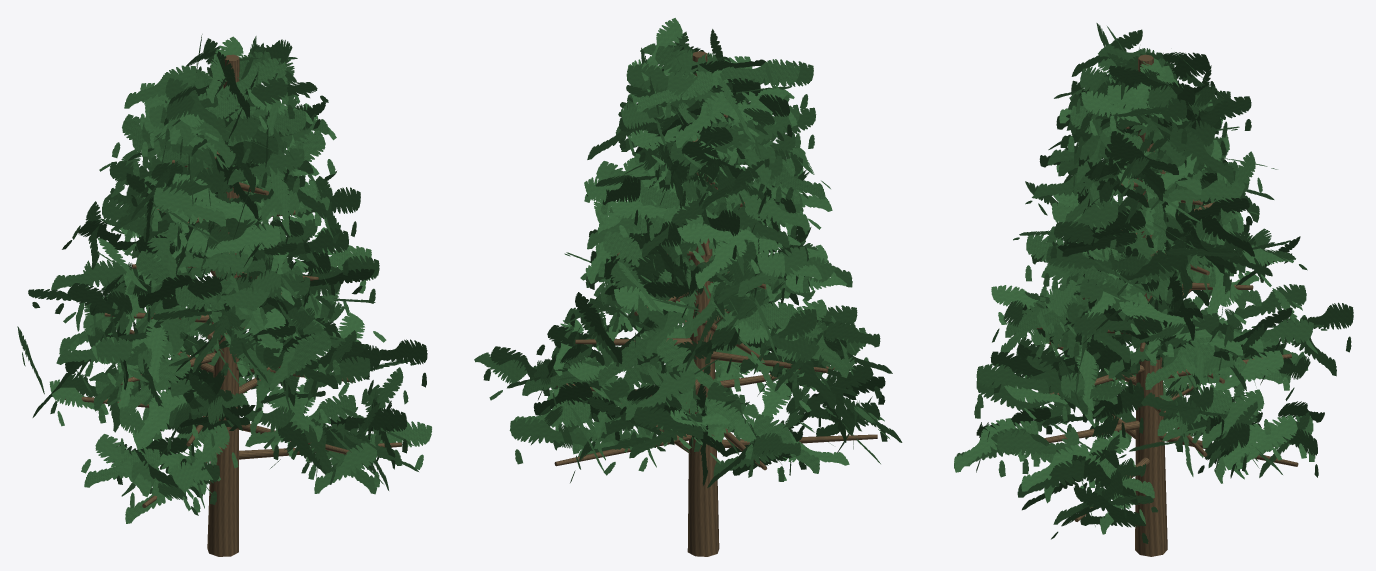
3 views of the same model, side by side, from view 1: azimuth 30°, elevation 25°; view 2: azimuth 150°, elevation 25°; view 3: azimuth 270°, elevation 25° (orthographic).
Parts seen in each view (by area): view 1: pine-needle, pine-bark; view 2: pine-needle, pine-bark; view 3: pine-needle, pine-bark.
Part boxes in pixels (x1,y1,x2,y2): pine-needle: (17, 34, 431, 523); pine-bark: (65, 54, 401, 556); pine-needle: (474, 18, 902, 487); pine-bark: (554, 51, 877, 556); pine-needle: (954, 23, 1353, 543); pine-bark: (1037, 54, 1298, 556).
Size of the model in its own units: 7.9 by 10.33 by 7.8.
2 materials, 2 textured.
